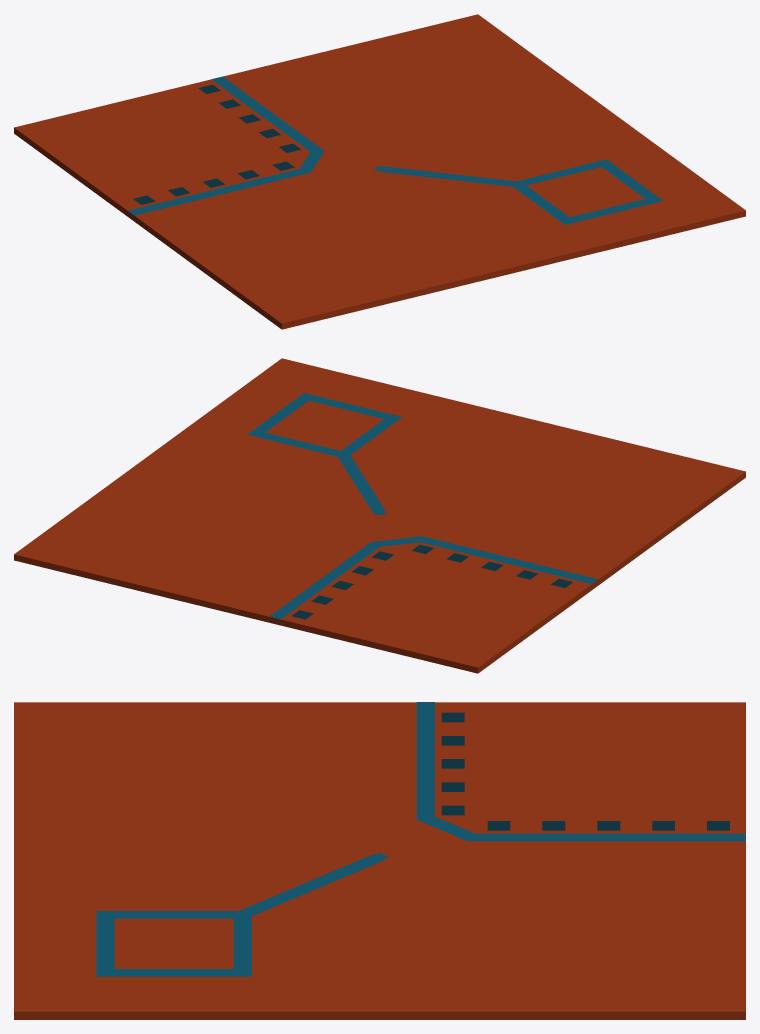
File: Tile_3-1C.fbx
The picture shows the model from 3 angles, top to bottom: view 1: azimuth 30°, elevation 25°; view 2: azimuth 150°, elevation 25°; view 3: azimuth 270°, elevation 25°; orthographic projection. The views are drawn at different scales.
Visible parts, largest first — view 1: Tile_3-1C; view 2: Tile_3-1C; view 3: Tile_3-1C.
Boxes of the visible parts, bbox=[...] form: Tile_3-1C: bbox=[14, 14, 745, 329]; Tile_3-1C: bbox=[14, 358, 745, 673]; Tile_3-1C: bbox=[14, 702, 745, 1019].
Bounding box in the file's own units: 4 × 4 × 0.051.
